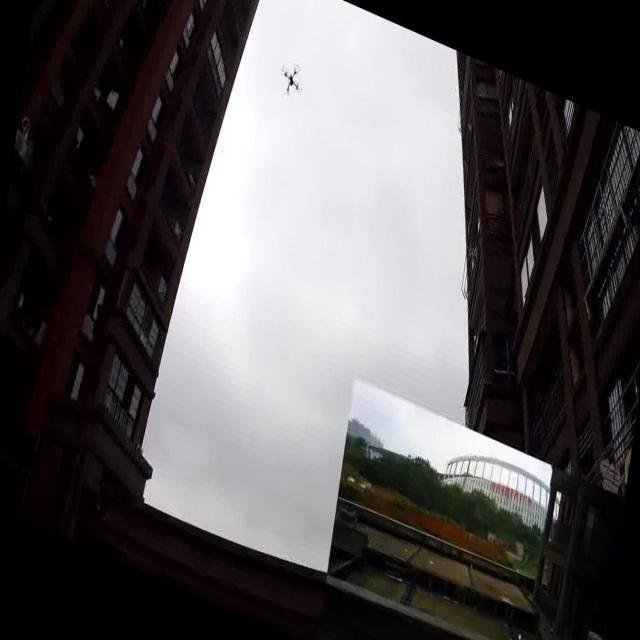drone: (276, 56, 308, 106)
